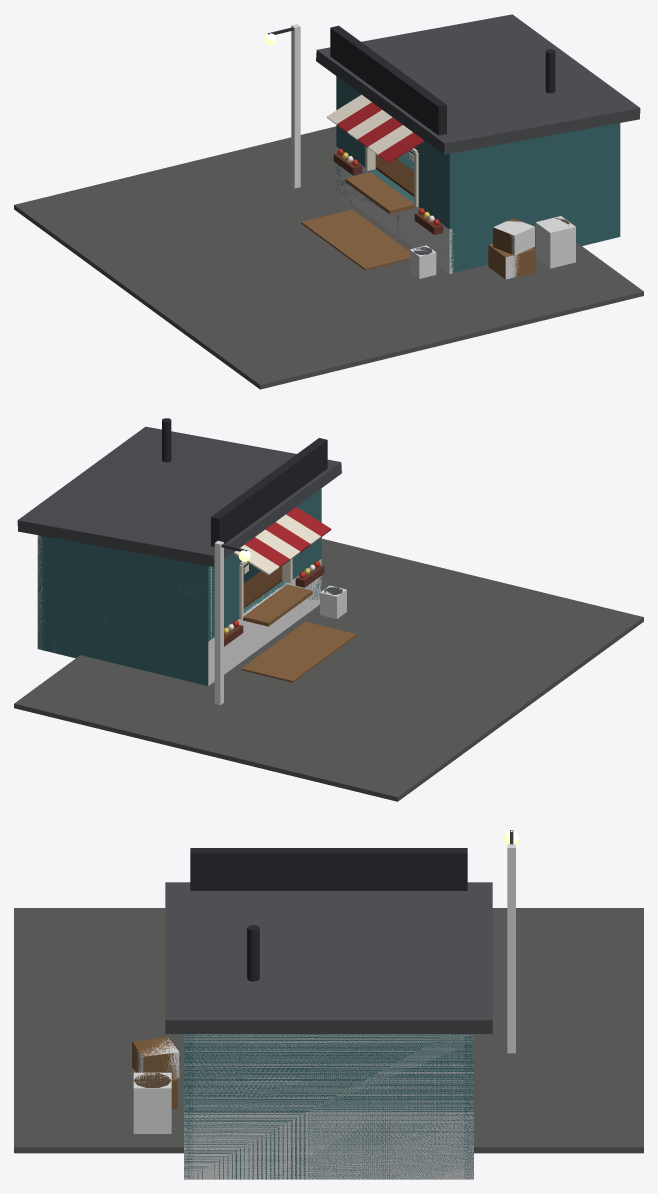
File: booth-0.glb
The picture shows the model from 3 angles, top to bottom: view 1: azimuth 30°, elevation 25°; view 2: azimuth 150°, elevation 25°; view 3: azimuth 270°, elevation 25°; orthographic projection. The views are drawn at different scales.
Visible parts, largest first — view 1: 26_#5a5a58_noshadow, 27_#4c4e52, 16_#3f6f73, 28_#2a2c30_noshadow, 04_#8a6440_noshadow, solid.008, 17_#3f6f73_r320, 09_#8a6440_r320, 00_#e8e0d0_noshadow_r320, solid.003, 01_#a3262c_noshadow_r320, solid.004 (+4 smaller); view 2: 26_#5a5a58_noshadow, 27_#4c4e52, 16_#3f6f73, 28_#2a2c30_noshadow, 04_#8a6440_noshadow, solid.008, 00_#e8e0d0_noshadow_r320, 17_#3f6f73_r320, solid.004, 01_#a3262c_noshadow_r320, 09_#8a6440_r320, 21_#5a3e26_noshadow (+2 smaller); view 3: 26_#5a5a58_noshadow, 27_#4c4e52, solid.005, 16_#3f6f73, 28_#2a2c30_noshadow, solid.003, solid.004, 10_#7a5a3a_r110, 15_#2a2c30_r320, solid.002.
Boxes of the visible parts, box(x1,y1,x2,y2) form: 26_#5a5a58_noshadow: box(14, 126, 643, 389); 27_#4c4e52: box(316, 14, 640, 154); 16_#3f6f73: box(336, 76, 620, 273); 28_#2a2c30_noshadow: box(330, 25, 446, 135); 04_#8a6440_noshadow: box(301, 209, 409, 270); solid.008: box(336, 147, 453, 273); 17_#3f6f73_r320: box(336, 93, 455, 228); 09_#8a6440_r320: box(345, 172, 535, 279); 00_#e8e0d0_noshadow_r320: box(326, 94, 418, 206); solid.003: box(535, 216, 575, 268); 01_#a3262c_noshadow_r320: box(337, 102, 423, 163); solid.004: box(291, 24, 300, 188); 26_#5a5a58_noshadow: box(14, 538, 643, 801); 27_#4c4e52: box(17, 426, 341, 566); 16_#3f6f73: box(37, 488, 321, 685); 28_#2a2c30_noshadow: box(211, 438, 327, 546); 04_#8a6440_noshadow: box(241, 621, 356, 682); solid.008: box(208, 559, 321, 685); 00_#e8e0d0_noshadow_r320: box(234, 514, 320, 619); 17_#3f6f73_r320: box(207, 505, 321, 638); solid.004: box(214, 540, 223, 705); 01_#a3262c_noshadow_r320: box(245, 507, 331, 567); 09_#8a6440_r320: box(243, 584, 312, 626); 21_#5a3e26_noshadow: box(243, 566, 282, 608); 26_#5a5a58_noshadow: box(14, 908, 643, 1153); 27_#4c4e52: box(165, 882, 492, 1033); solid.005: box(184, 1034, 473, 1179); 16_#3f6f73: box(184, 1034, 473, 1179); 28_#2a2c30_noshadow: box(190, 848, 467, 890); solid.003: box(133, 1072, 171, 1133); solid.004: box(507, 844, 515, 1053); 10_#7a5a3a_r110: box(132, 1037, 179, 1078); 15_#2a2c30_r320: box(247, 925, 259, 981); solid.002: box(136, 1038, 179, 1077).
Size of the model in its own units: 10.3 by 3.95 by 10.
